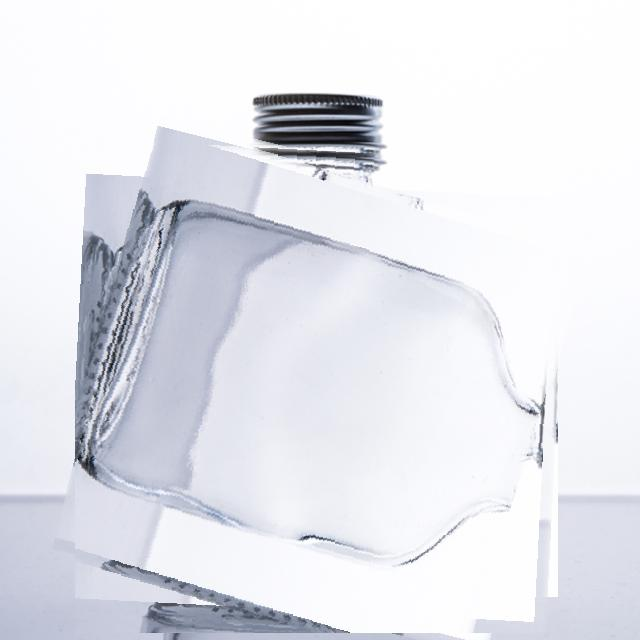recyclable: (75, 138, 570, 633)
